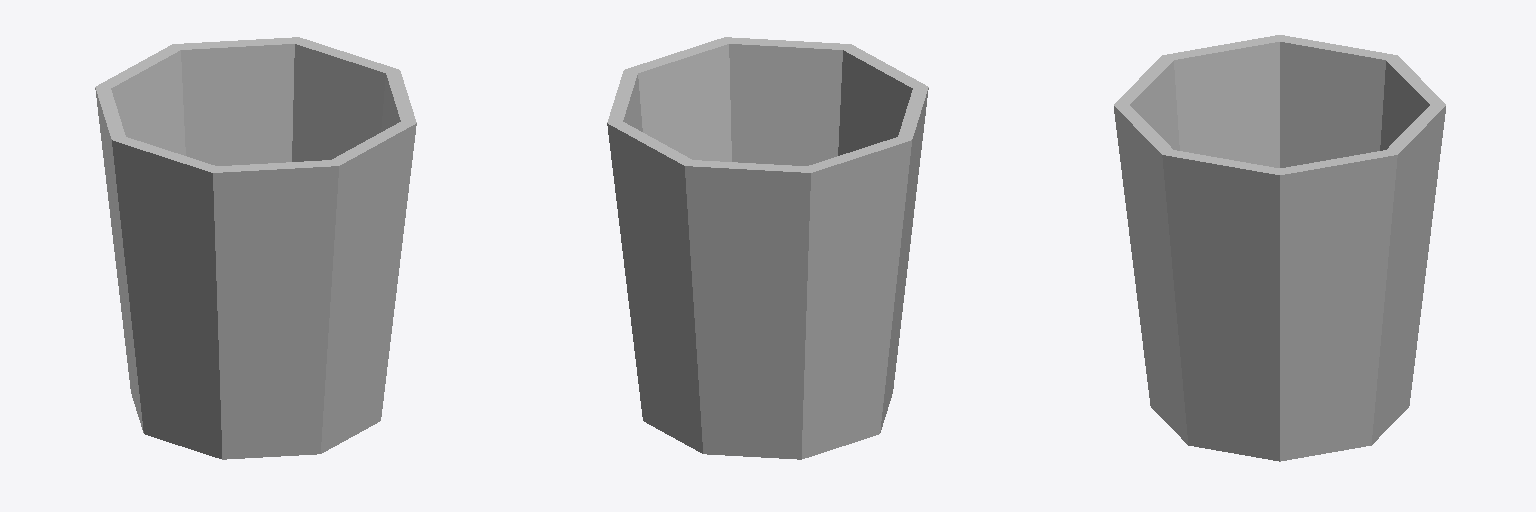
File: bin_2.obj
3 views of the same model, side by side, from view 1: azimuth 30°, elevation 25°; view 2: azimuth 150°, elevation 25°; view 3: azimuth 270°, elevation 25° (orthographic).
Parts seen in each view (by area): view 1: bin_2; view 2: bin_2; view 3: bin_2.
Part boxes in pixels (x1,y1,x2,y2): bin_2: (95,37,416,459); bin_2: (607,37,928,459); bin_2: (1114,35,1445,461).
Size of the model in its own units: 2 by 2 by 2.